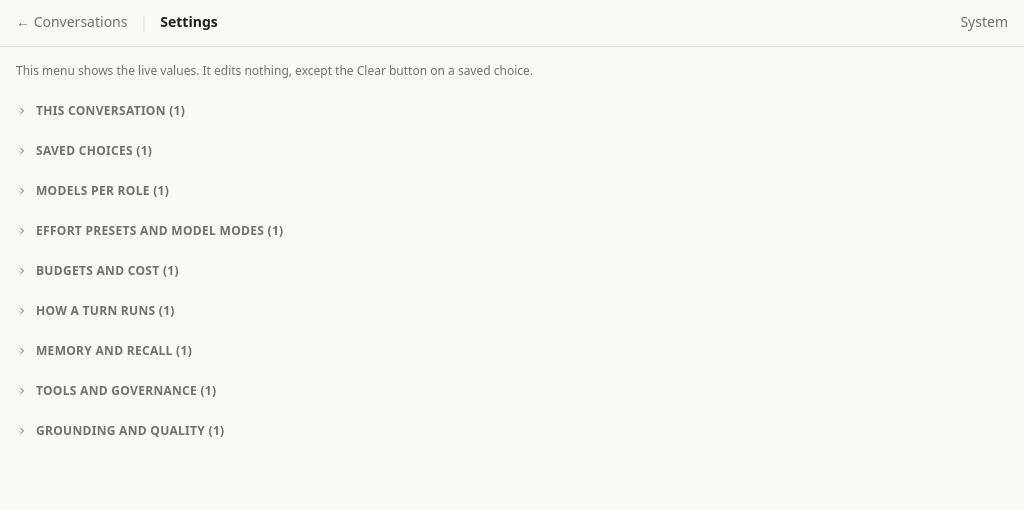
Test case: no control edits a parameter (AC-5) › shows no Clear button when no saved choice exists
The width and height of the screenshot is (1024, 510).
Click the button "This conversation (1)" at (101, 110), box [16,103,1008,119]
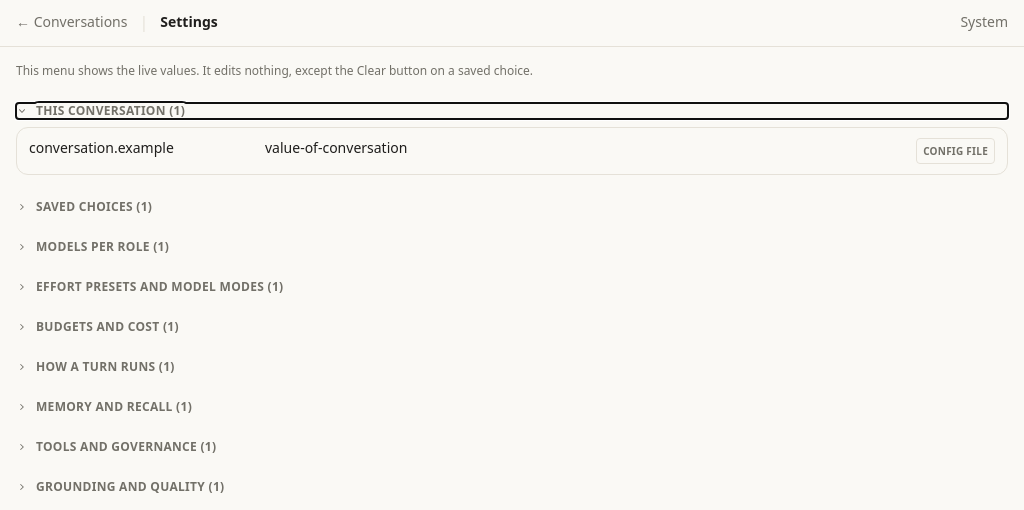
Now the text "conversation.example" is shown, box [29,138,174,157]
